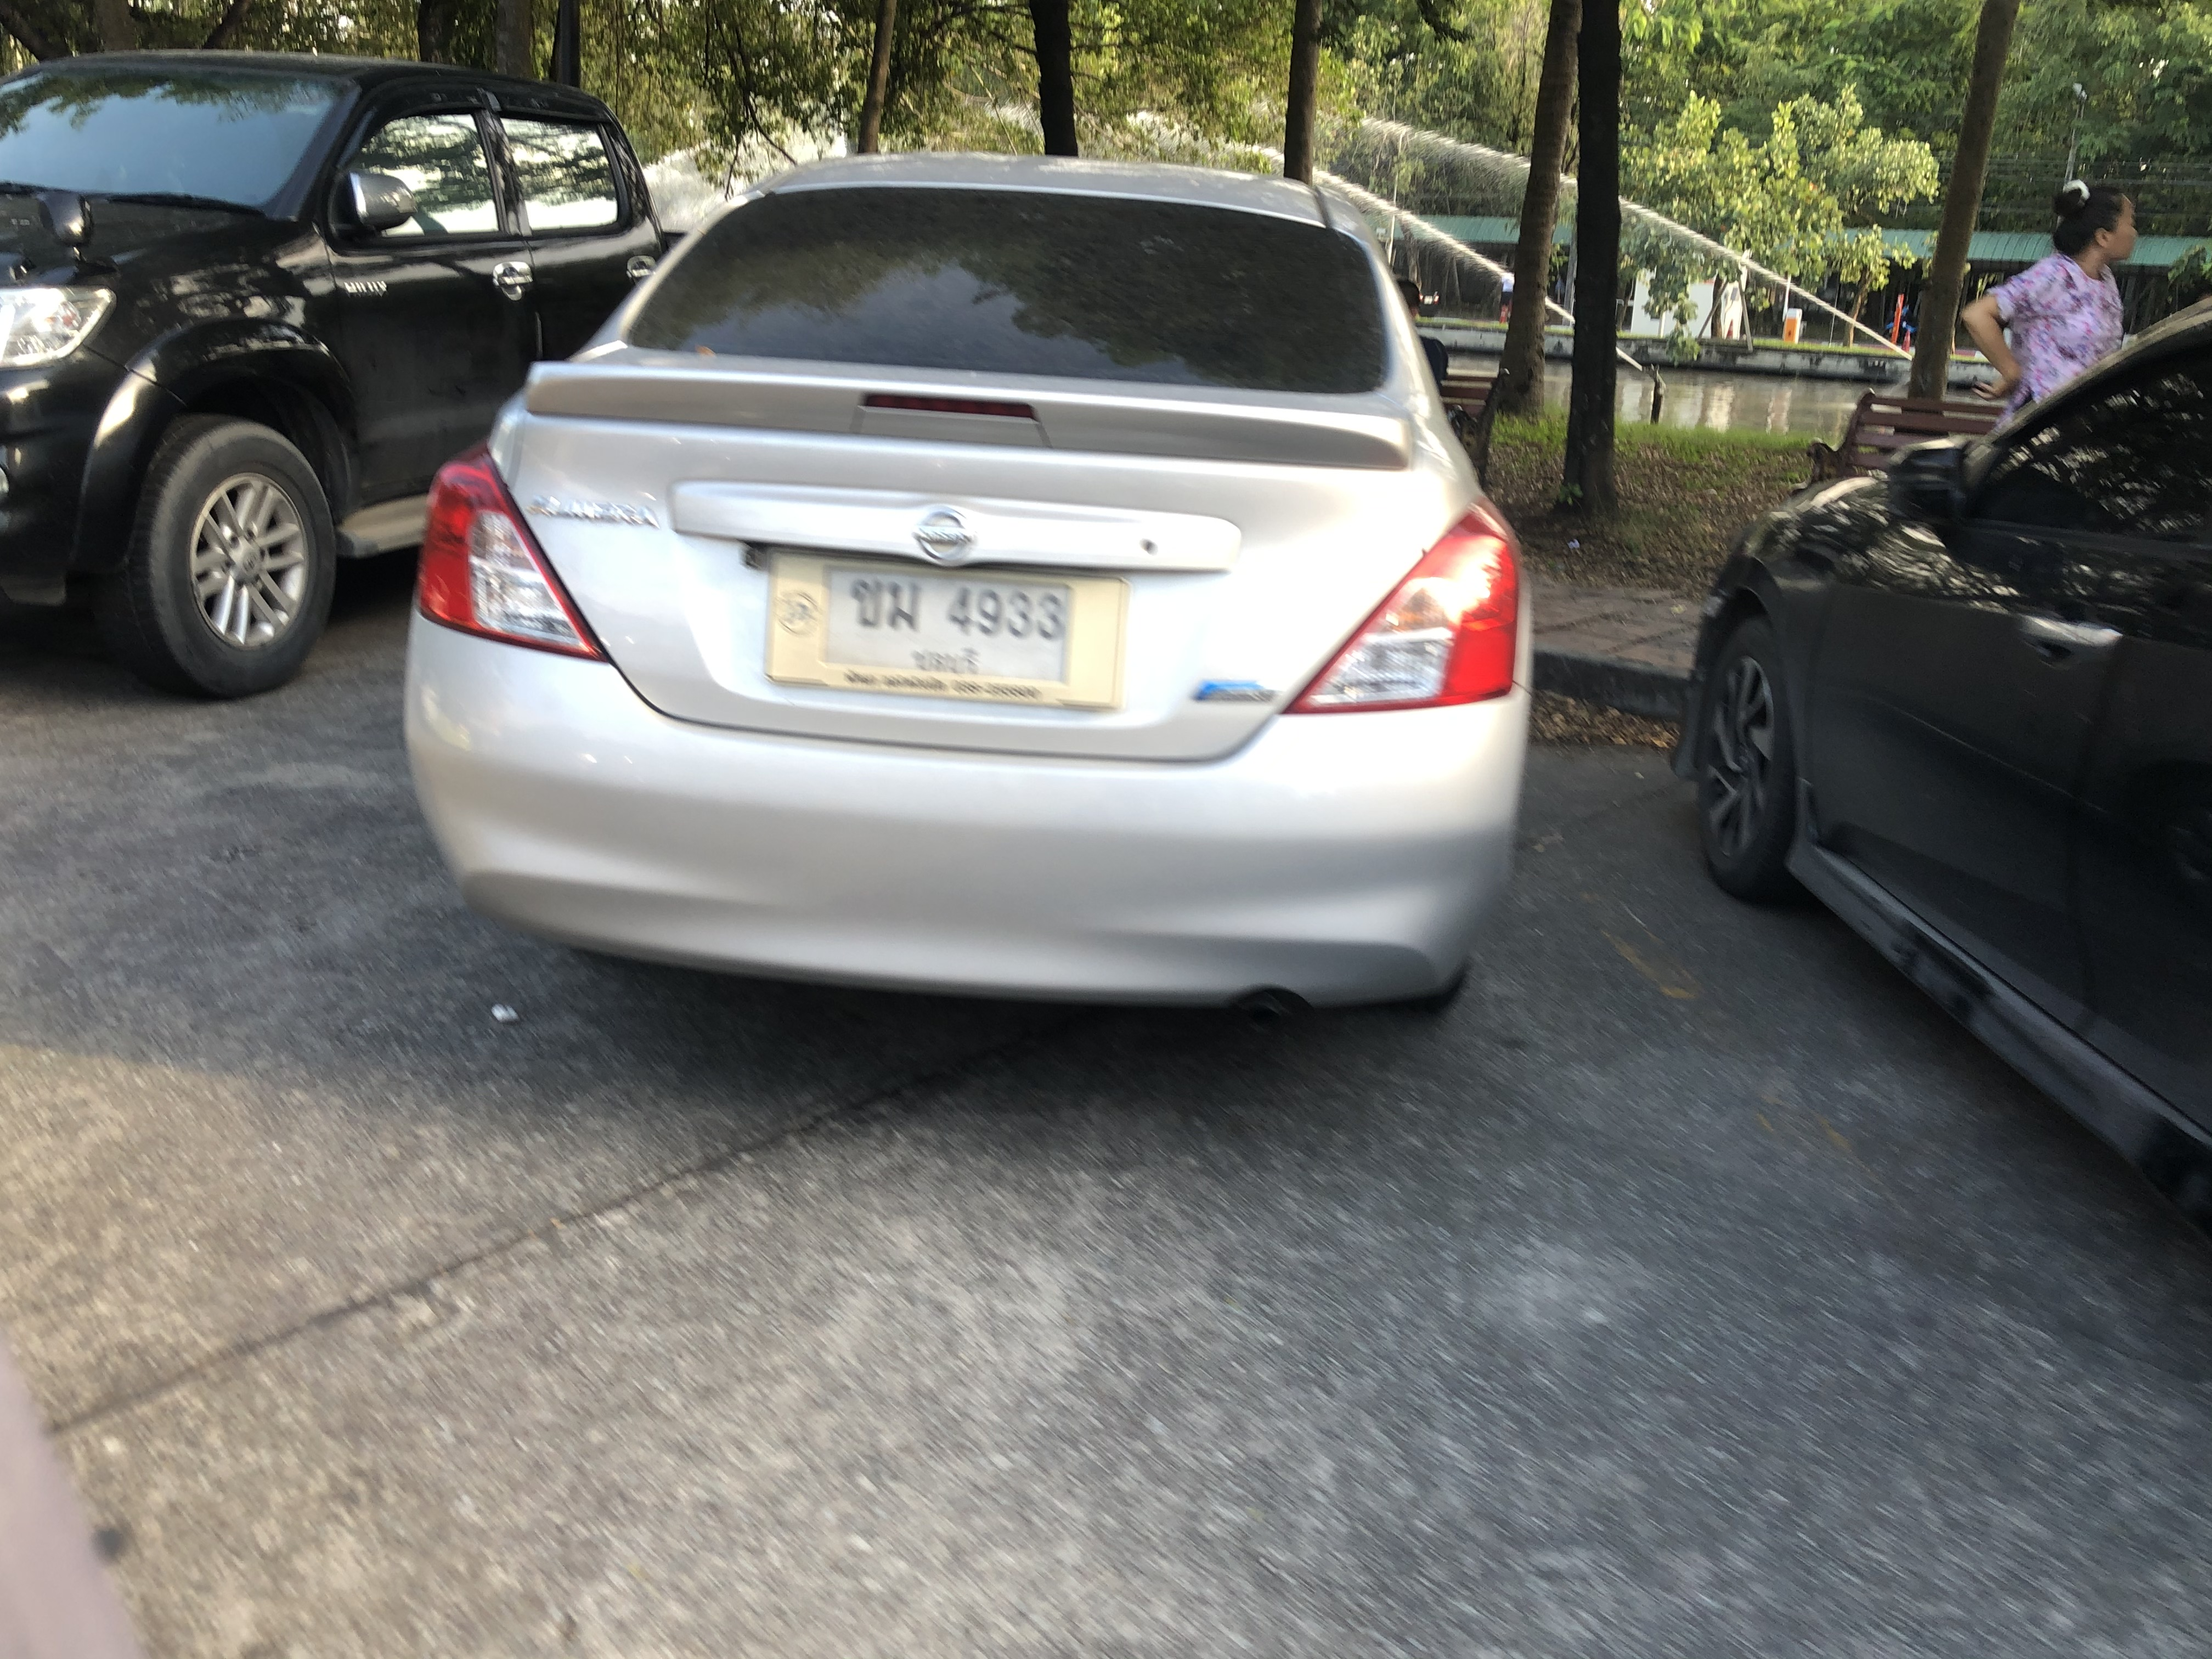in: (824, 568, 1068, 687)
out: (756, 537, 1122, 718)
